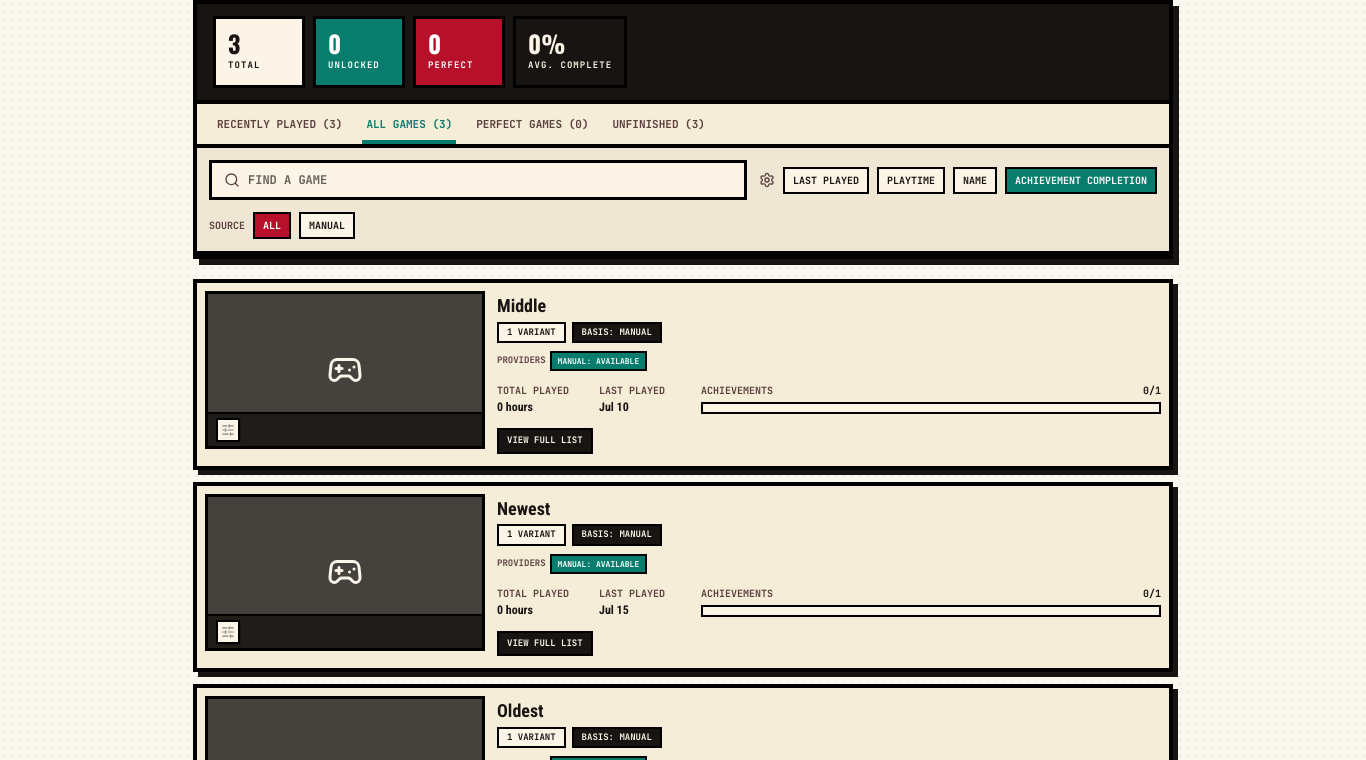
it: AchievementsPage › sorts the recently played view by latest play time
The image size is (1366, 760).
Check: the heading "Newest" is shown, box [497,498,550,518]
Click the button "Recently Played (3)". click: (280,130)
box: [213,116,346,144]
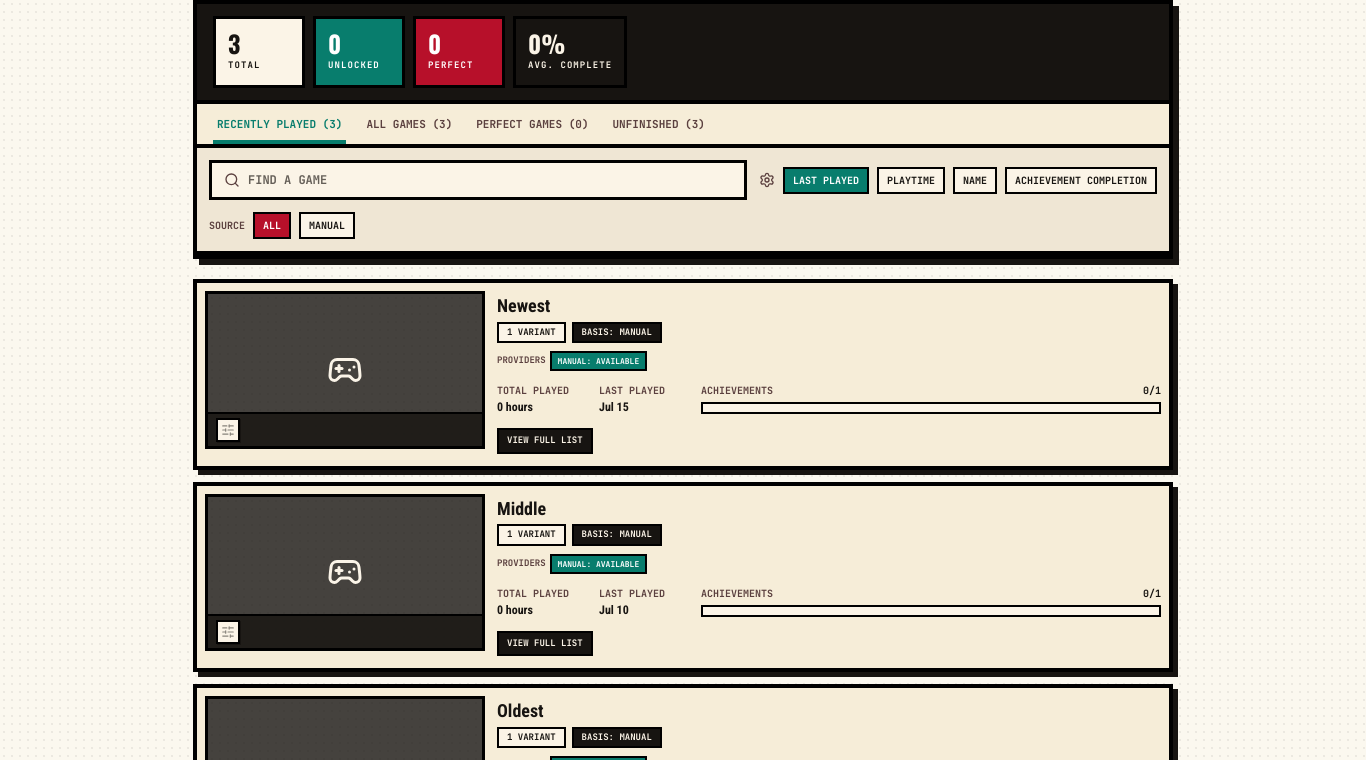
Check: the headings read "Newest", "Middle", "Oldest", in this order, box [497,295,550,316]; [497,498,546,518]; [497,700,544,721]
